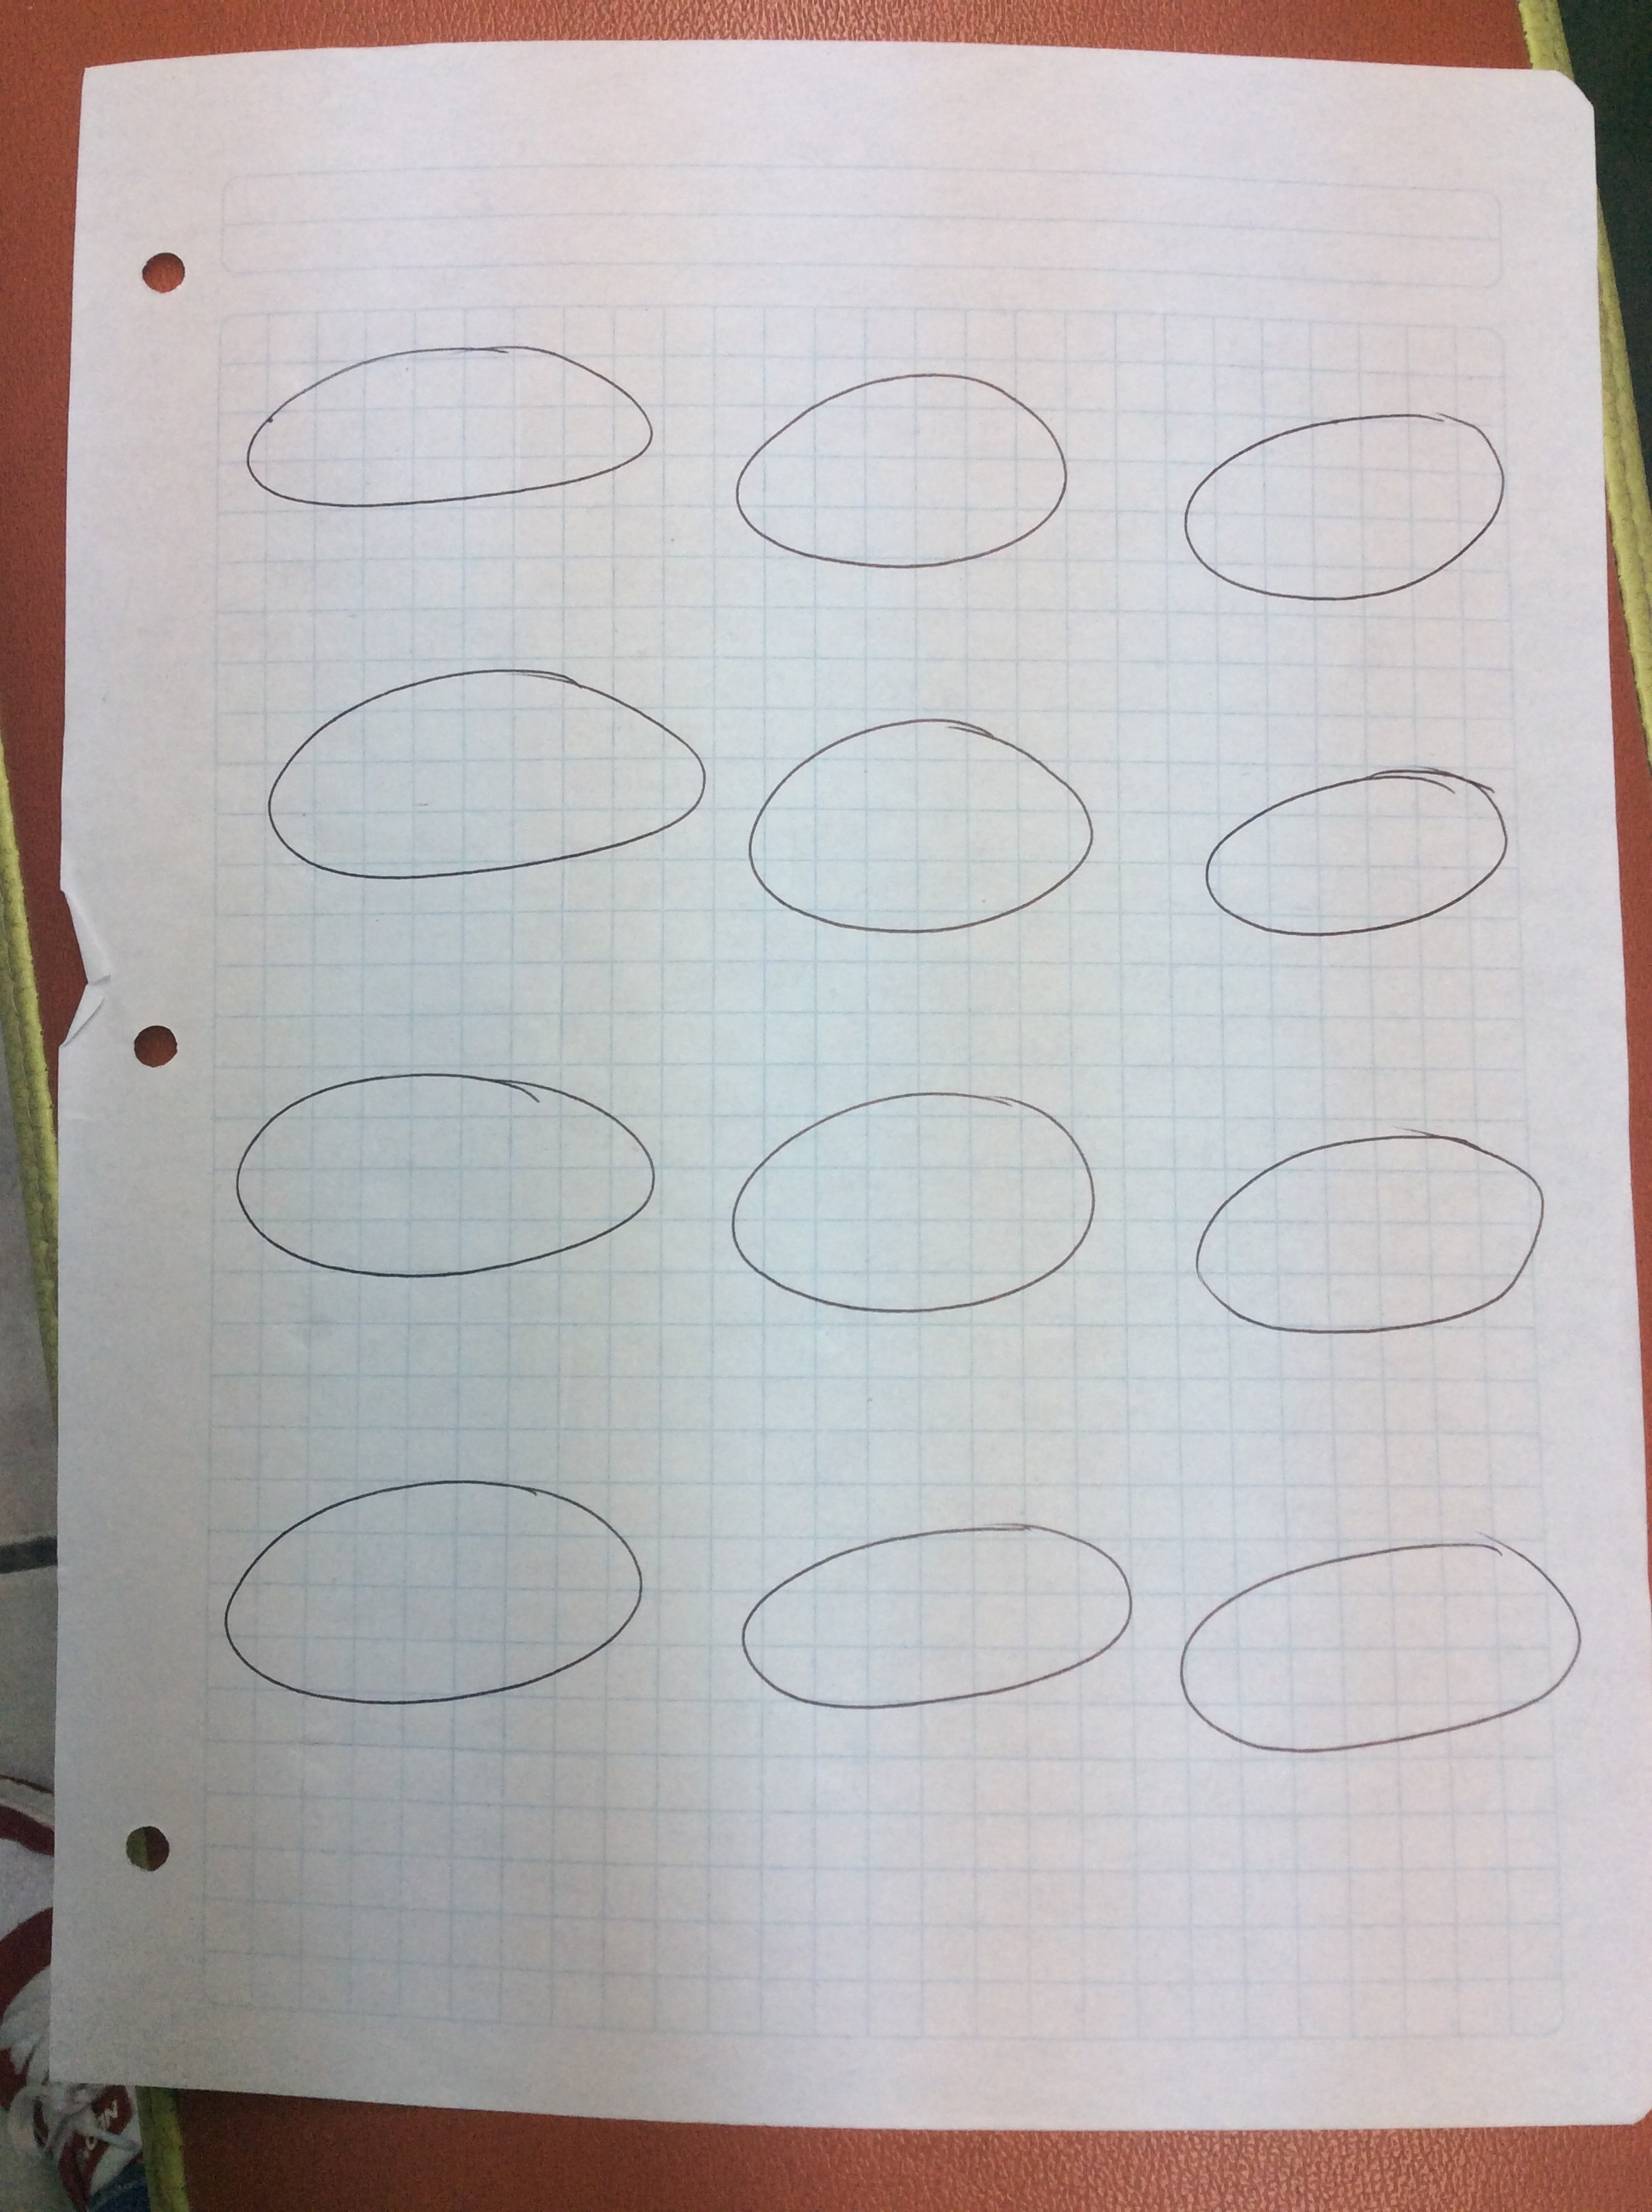start_end: (206, 1044, 672, 1312), (220, 645, 715, 895), (203, 1457, 672, 1721), (1152, 1520, 1602, 1775), (708, 1058, 1107, 1345), (715, 1492, 1142, 1738), (732, 689, 1114, 956), (1170, 1112, 1572, 1358), (708, 349, 1090, 604), (220, 324, 672, 540), (1163, 378, 1517, 632), (1180, 737, 1534, 963)
